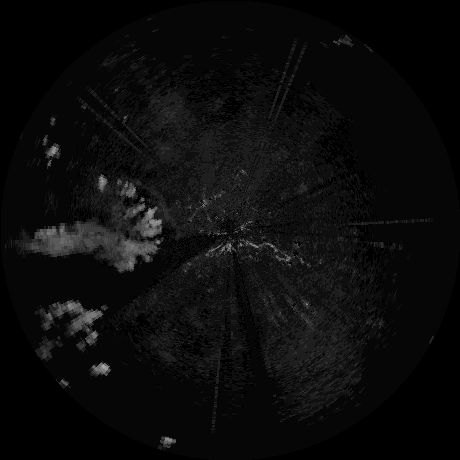frontgust: (137, 181, 179, 236)
